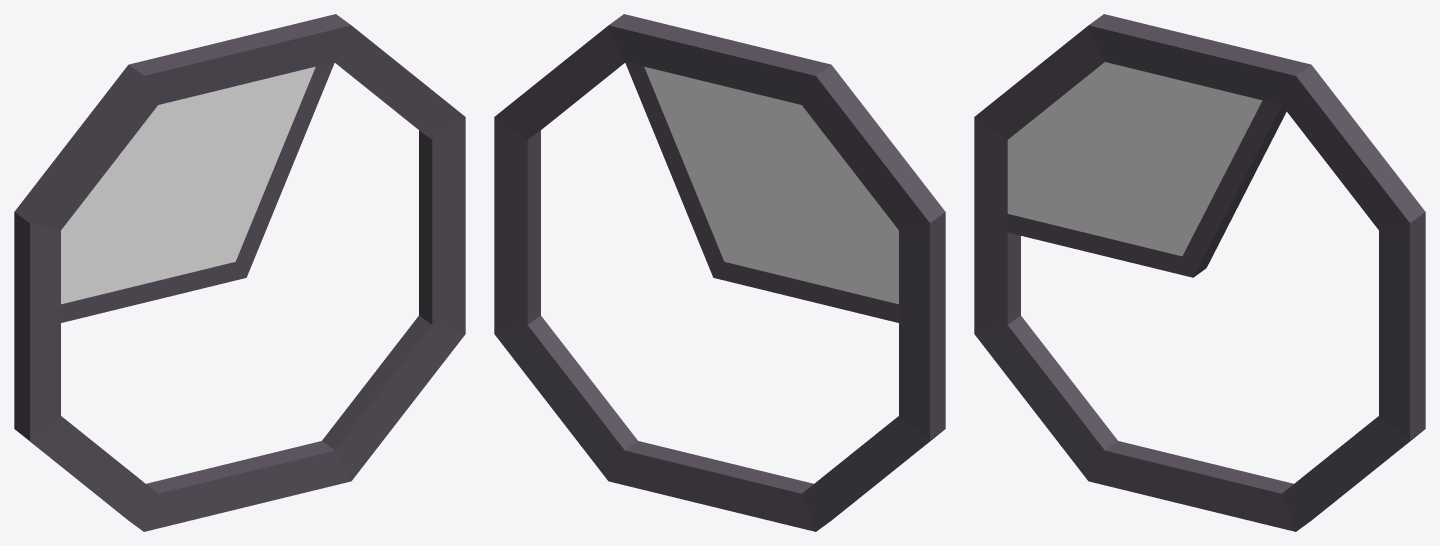
Rendered from Obstacle06.fbx.
The picture shows the model from 3 angles, left to right: view 1: azimuth 30°, elevation 25°; view 2: azimuth 150°, elevation 25°; view 3: azimuth 330°, elevation 25°; orthographic projection.
Visible parts, largest first — view 1: Obstacle06; view 2: Obstacle06; view 3: Obstacle06.
Part boxes in pixels (box(x1,y1,x2,y2)): Obstacle06: box(14, 14, 465, 531); Obstacle06: box(494, 14, 945, 531); Obstacle06: box(974, 14, 1425, 531).
Size of the model in its own units: 49.27 by 49.27 by 3.05.
